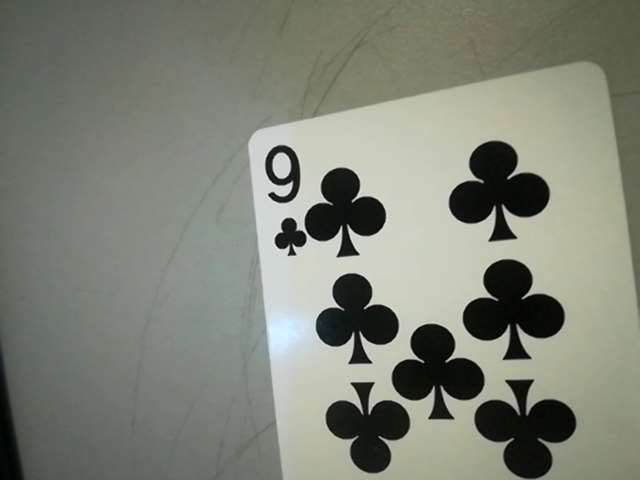mh 9: (253, 132, 310, 257)
